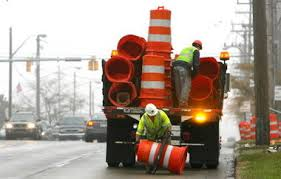barrel: (139, 138, 183, 169), (142, 55, 166, 99), (149, 7, 170, 51), (269, 112, 278, 137), (240, 122, 251, 139), (250, 116, 257, 138)
